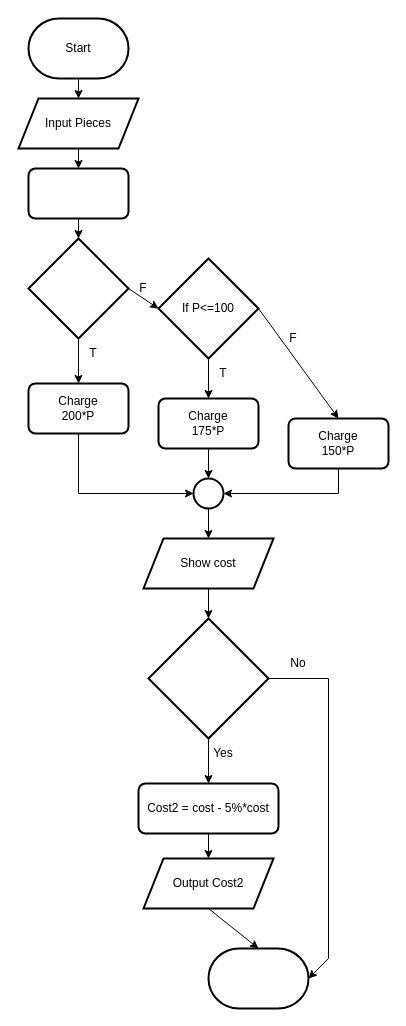
Image size: 406x1026. Some labels were removed from this diagram. The centre of each missing label's shape, as x and y in pixels:
"Do you have the subcription ID?" goes at [208,678].
"If P>=1 && <=50" goes at [78,288].
"Pay it" goes at [258,978].
"Pieces=P" goes at [78,193].
